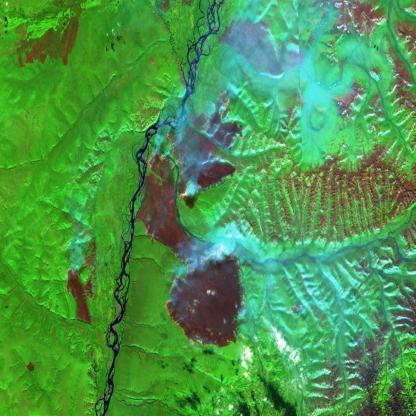fire: (131, 79, 248, 352), (59, 234, 102, 304), (286, 289, 308, 321)
